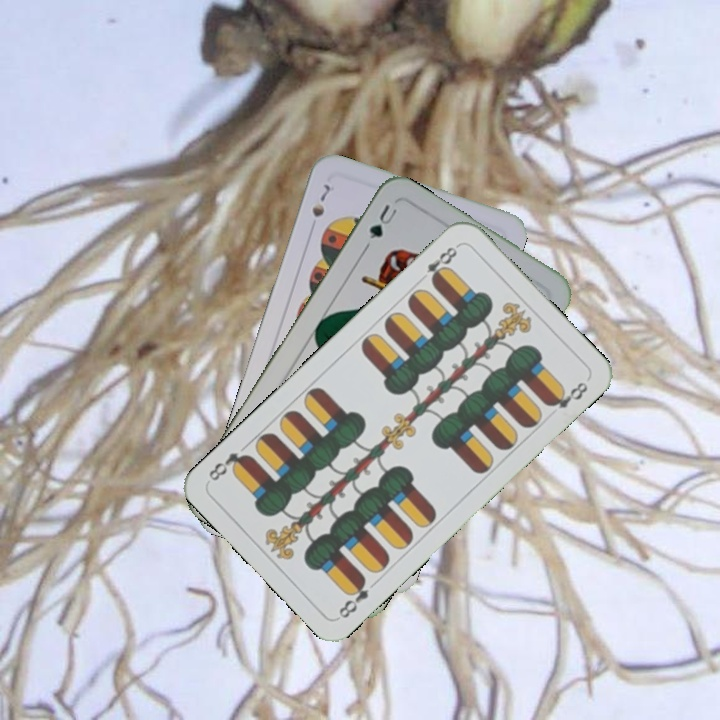E8: (422, 240, 462, 287), (334, 573, 372, 621)
GU: (365, 200, 400, 242)
S7: (308, 179, 333, 220)
